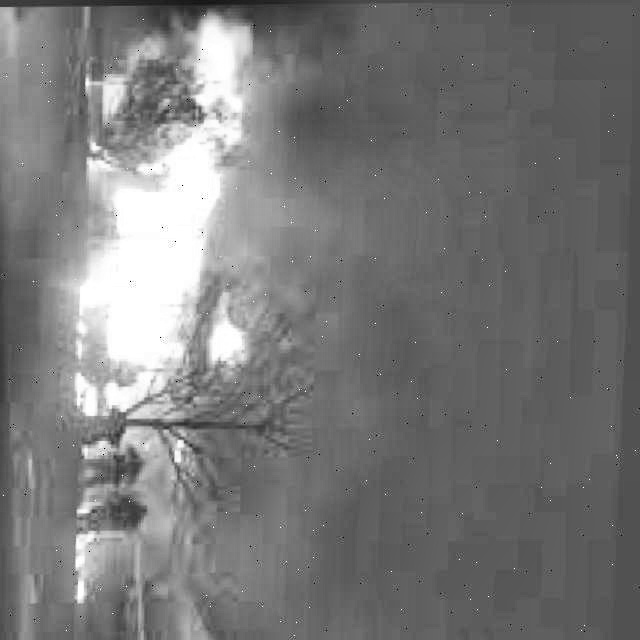Fire: (72, 49, 228, 468)
Smoke: (199, 25, 471, 491)
